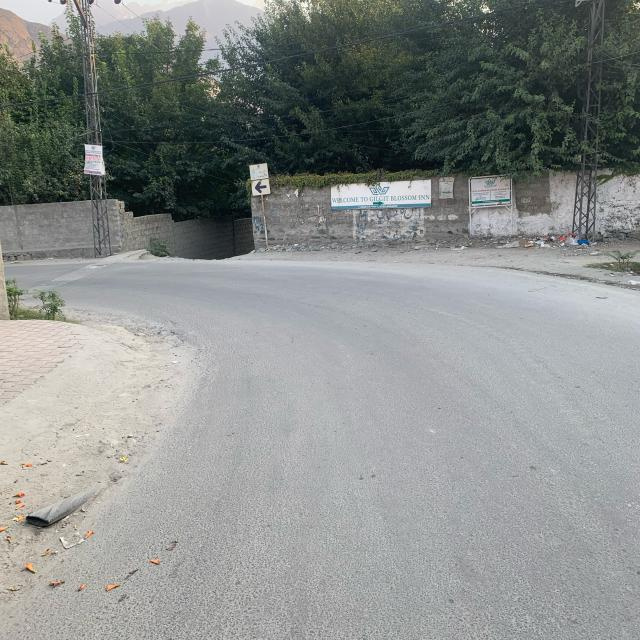Left-Turn: (11, 252, 332, 358)
